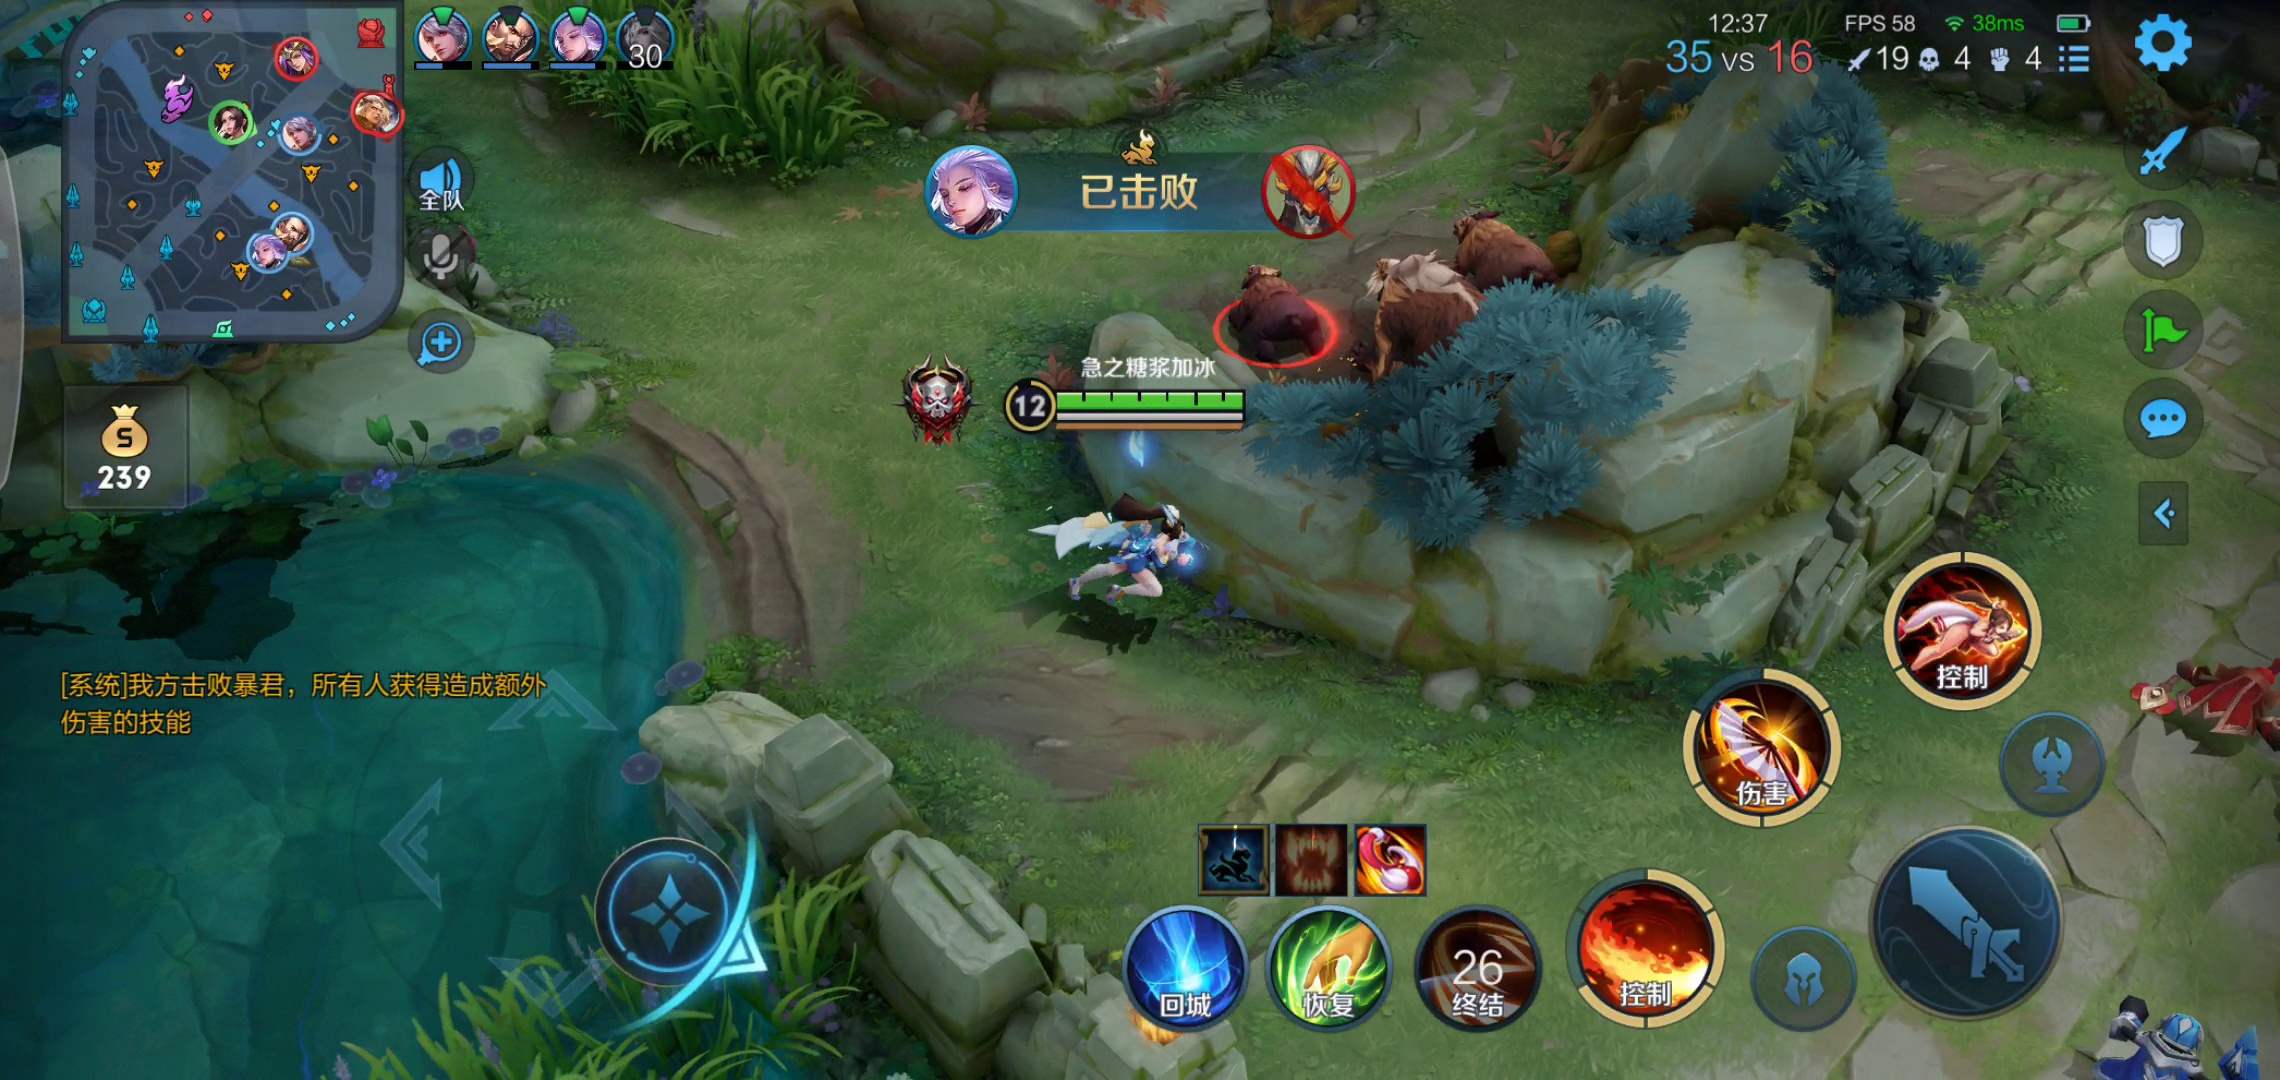grass: (300, 794, 875, 1080), (510, 9, 886, 190)
hero: (1027, 485, 1226, 622)
soldier: (2092, 986, 2258, 1079)
wild_monster: (1221, 198, 1552, 378)
